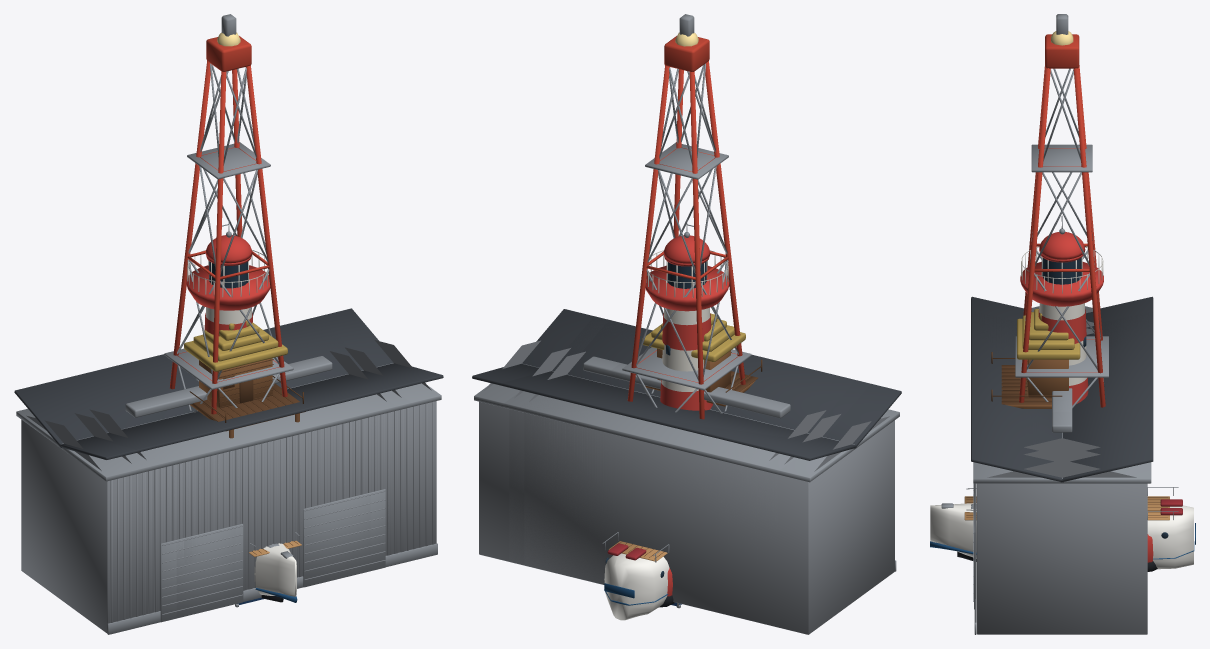
Rendered from Structures.fbx.
3 views of the same model, side by side, from view 1: azimuth 30°, elevation 25°; view 2: azimuth 150°, elevation 25°; view 3: azimuth 270°, elevation 25° (orthographic).
Visible parts, largest first — view 1: Warehouse_22, Warehouse_18, Warehouse_16, Derrick, Treehouse, Lighthouse, Yacht; view 2: Warehouse_22, Warehouse_16, Warehouse_18, Derrick, Lighthouse, Yacht, Treehouse; view 3: Warehouse_22, Derrick, Lighthouse, Yacht, Treehouse, Warehouse_18, Warehouse_16.
Part boxes in pixels (<box>): Warehouse_22: <box>14,308,443,634</box>; Warehouse_18: <box>74,321,413,618</box>; Warehouse_16: <box>89,320,397,613</box>; Derrick: <box>164,14,293,414</box>; Treehouse: <box>184,319,305,438</box>; Lighthouse: <box>186,219,270,336</box>; Yacht: <box>249,532,301,602</box>; Warehouse_22: <box>472,309,901,634</box>; Warehouse_16: <box>517,320,855,601</box>; Warehouse_18: <box>502,316,870,602</box>; Derrick: <box>622,14,751,419</box>; Lighthouse: <box>645,219,729,410</box>; Yacht: <box>602,532,669,620</box>; Treehouse: <box>642,313,762,406</box>; Warehouse_22: <box>971,296,1153,634</box>; Derrick: <box>1015,14,1108,408</box>; Lighthouse: <box>1020,215,1103,405</box>; Yacht: <box>930,487,1195,569</box>; Treehouse: <box>991,308,1080,408</box>; Warehouse_18: <box>971,311,1153,609</box>; Warehouse_16: <box>971,320,1153,521</box>.
Size of the model in its own units: 22.5 by 36.16 by 15.53.
